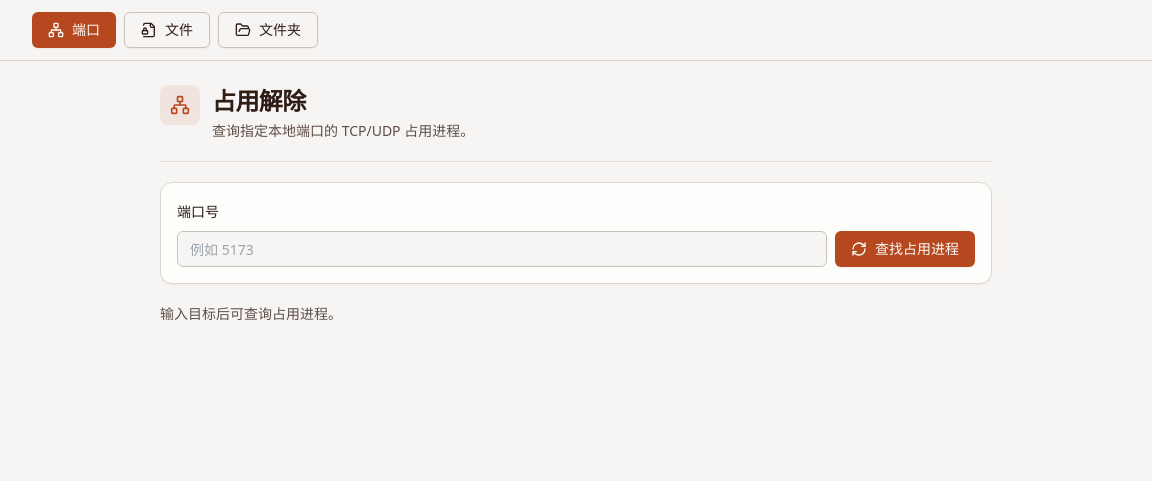
Test: Windows process tools › clears a port lookup when the requested target changes
The width and height of the screenshot is (1152, 481).
Type "5173" into the field labelled "端口号". click: (502, 249)
box: x1=177 y1=231 x2=827 y2=267
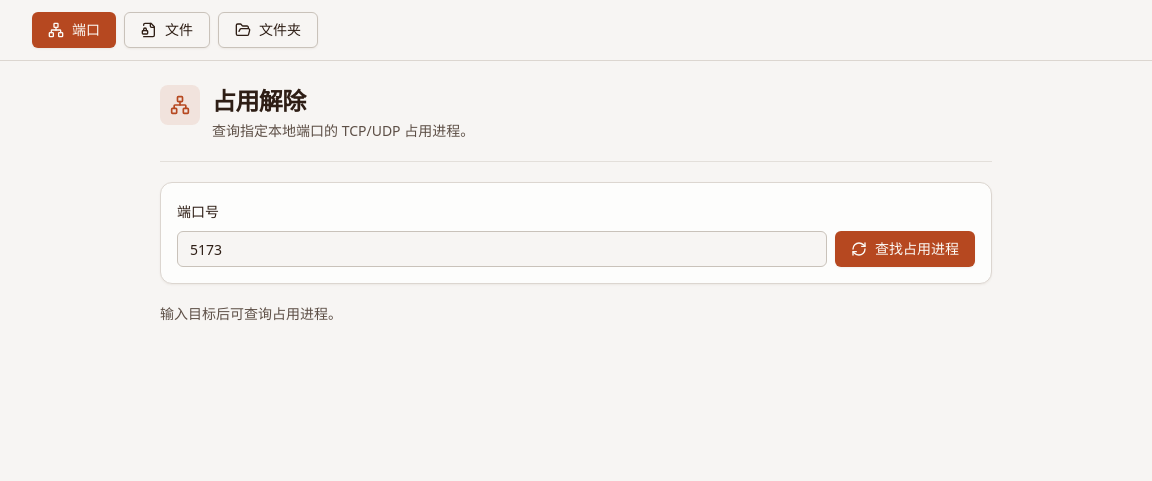
Click the button "查找占用进程". click: (905, 249)
box: x1=835 y1=231 x2=975 y2=267
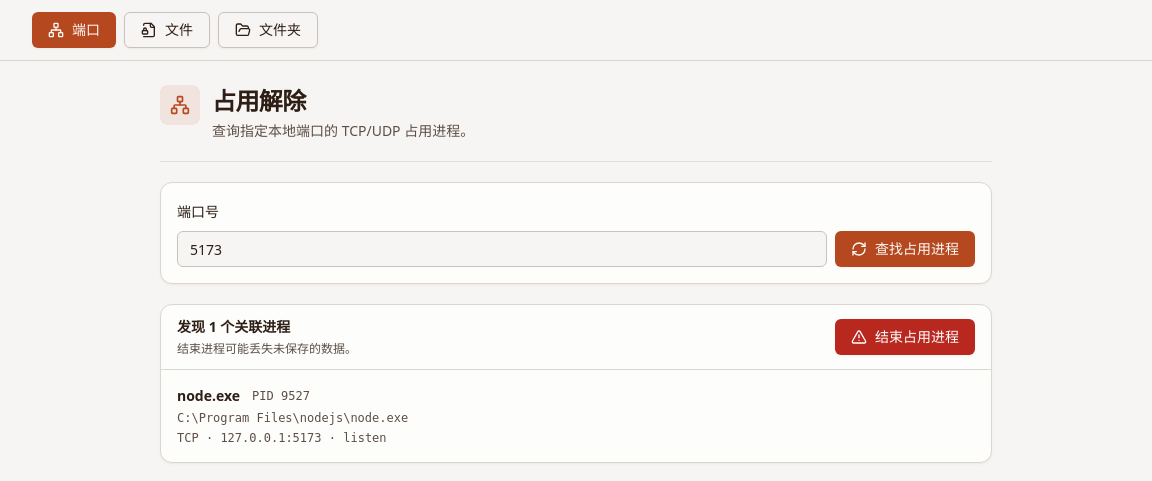
Expected: the text "node.exe" is shown, x1=177 y1=386 x2=240 y2=406
Replace the text in the field labelled "端口号" with "8080". click: (502, 249)
box: x1=177 y1=231 x2=827 y2=267
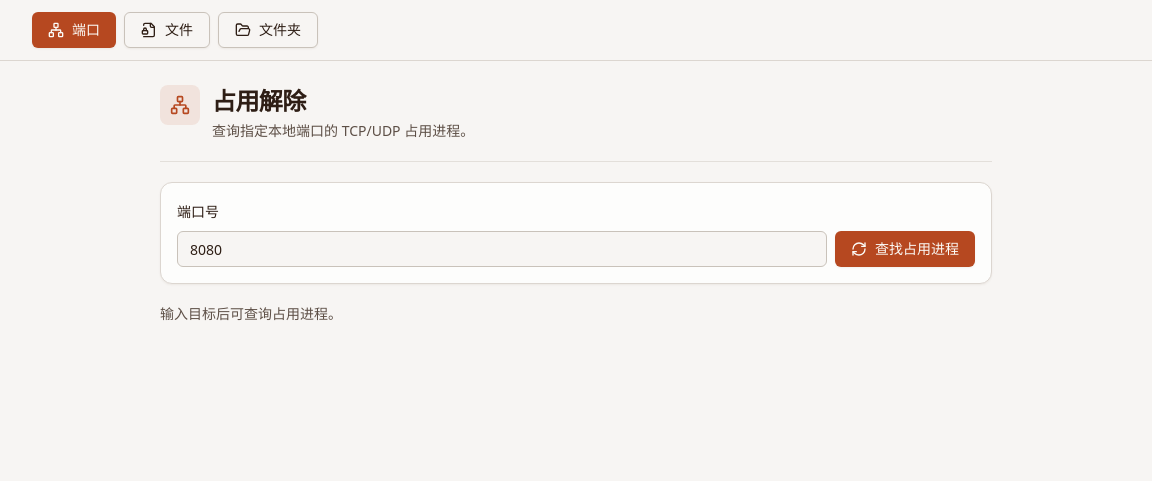
Expected: the text "node.exe" is gone
Expected: the button "结束占用进程" is gone
